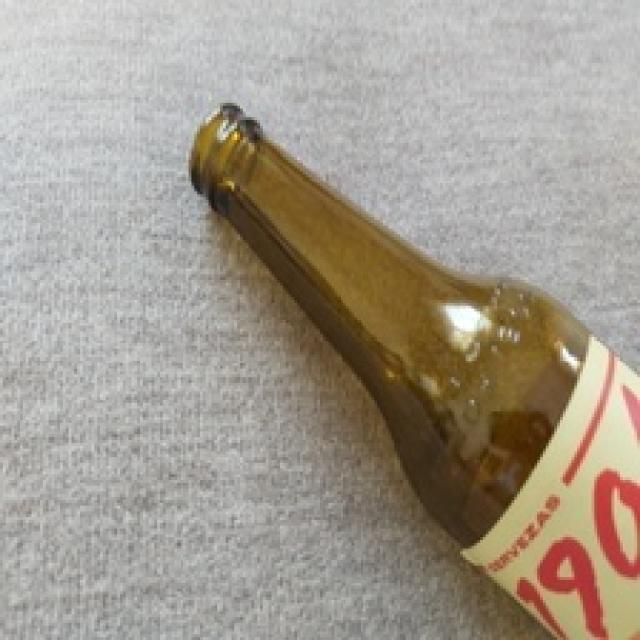Glass: (191, 104, 640, 640)
